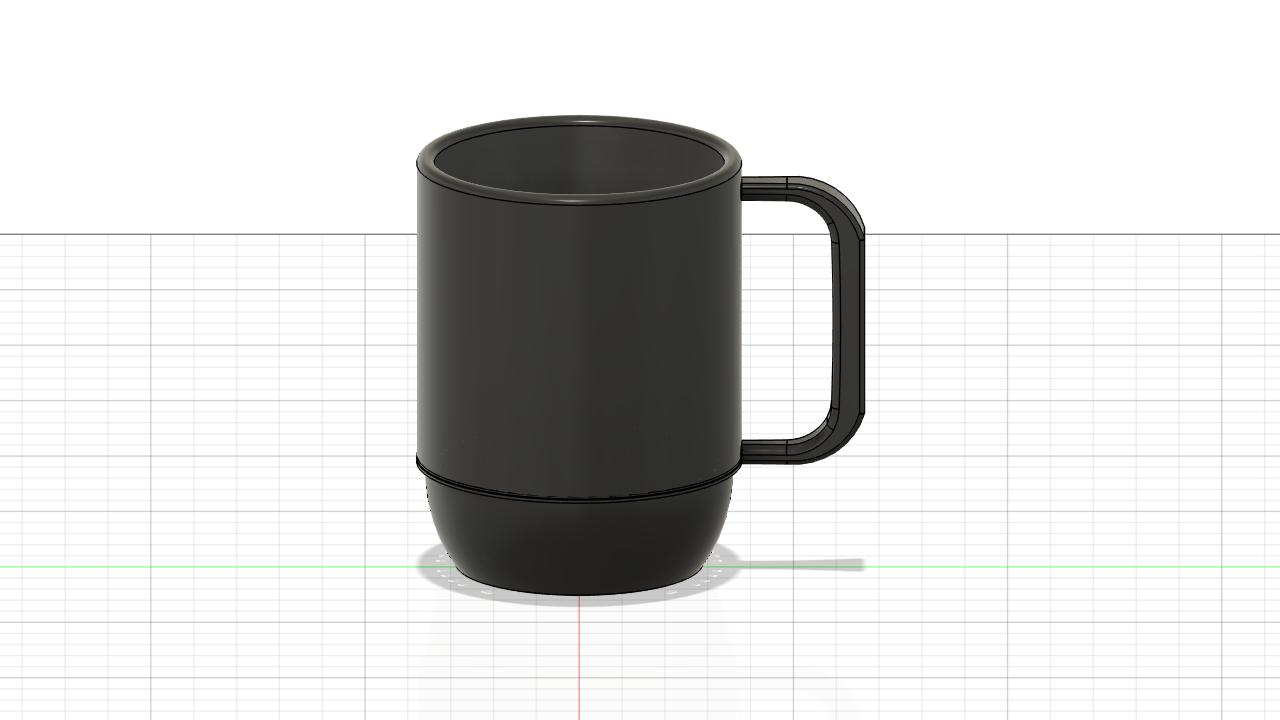mug-real100-3d100: (415, 117, 864, 594)
